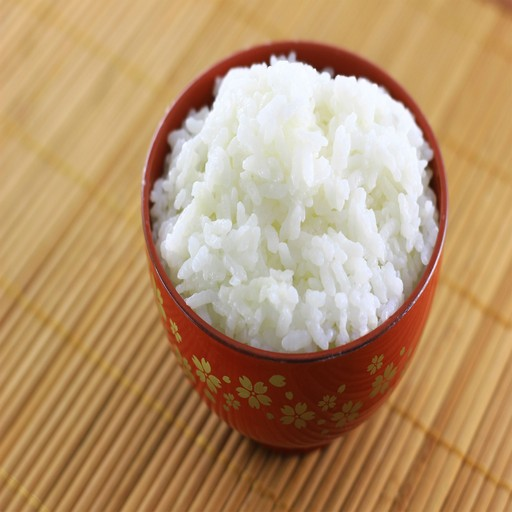rice: (226, 79, 377, 325)
